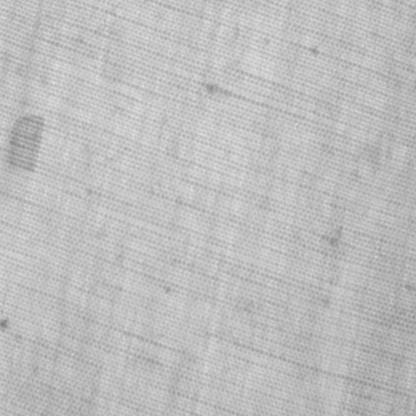oil spot: (4, 109, 45, 173)
